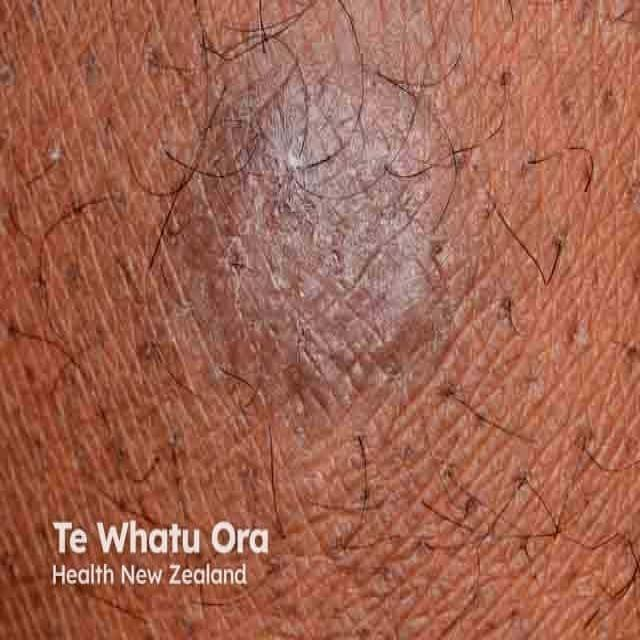Eczema: (203, 50, 444, 384)
